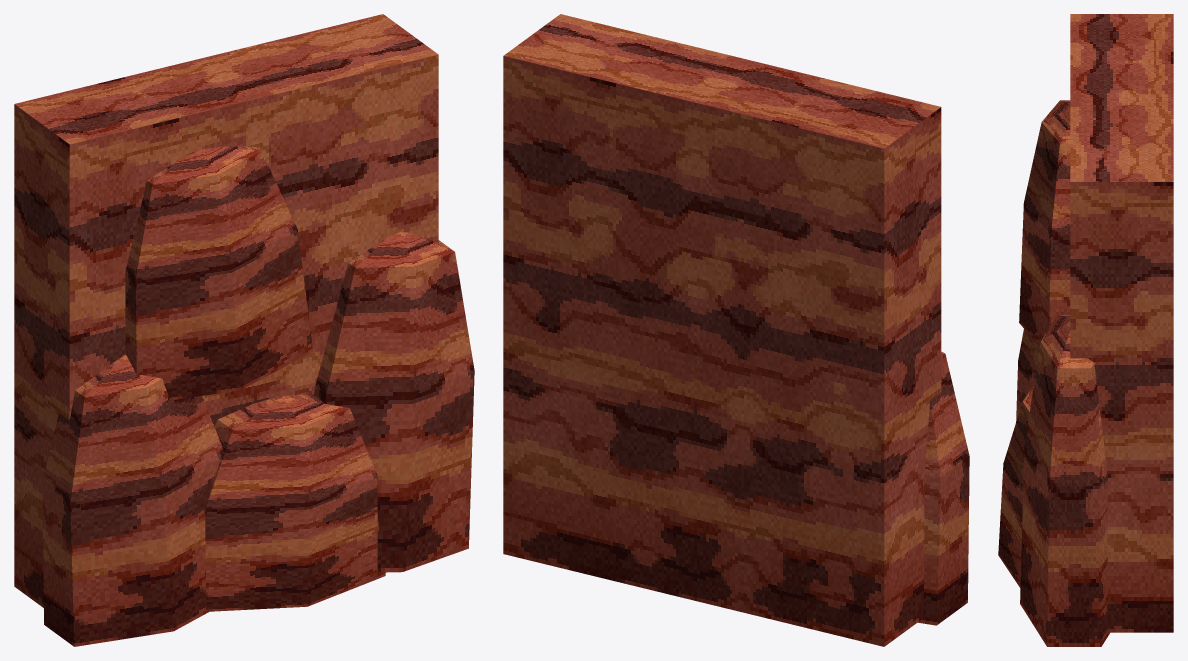
File: parede_caverna_rochas_vermelhas.glb
The picture shows the model from 3 angles, left to right: view 1: azimuth 30°, elevation 25°; view 2: azimuth 150°, elevation 25°; view 3: azimuth 270°, elevation 25°; orthographic projection. The views are drawn at different scales.
Visible parts, largest first — view 1: parede_caverna_rochas_vermelhas; view 2: parede_caverna_rochas_vermelhas; view 3: parede_caverna_rochas_vermelhas.
Boxes of the visible parts, x1=… form: parede_caverna_rochas_vermelhas: x1=14, y1=14, x2=474, y2=646; parede_caverna_rochas_vermelhas: x1=503, y1=14, x2=969, y2=646; parede_caverna_rochas_vermelhas: x1=998, y1=14, x2=1173, y2=646.
Size of the model in its own units: 2.21 by 2.54 by 0.8824.
Materials: 1 (1 with a texture image).
